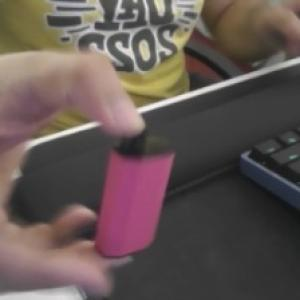Blume-E-Ciggirate: (93, 121, 177, 260)
